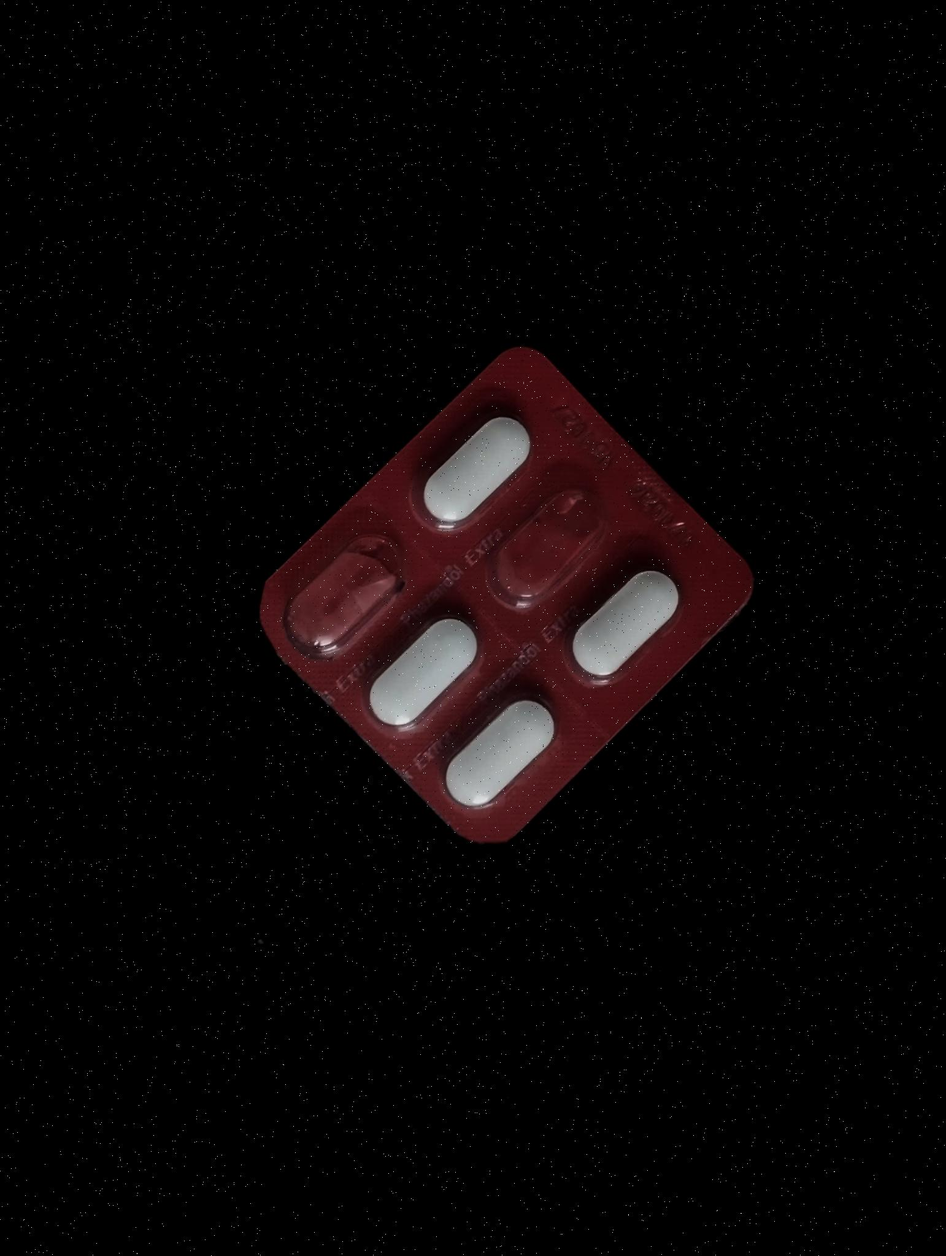Empty: (461, 454, 637, 632), (261, 502, 434, 675)
Full: (420, 662, 590, 837), (349, 585, 520, 754), (395, 384, 554, 542), (546, 541, 702, 702)
